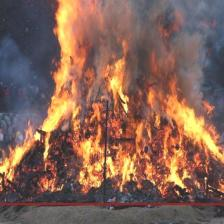fire: (0, 0, 224, 204)
